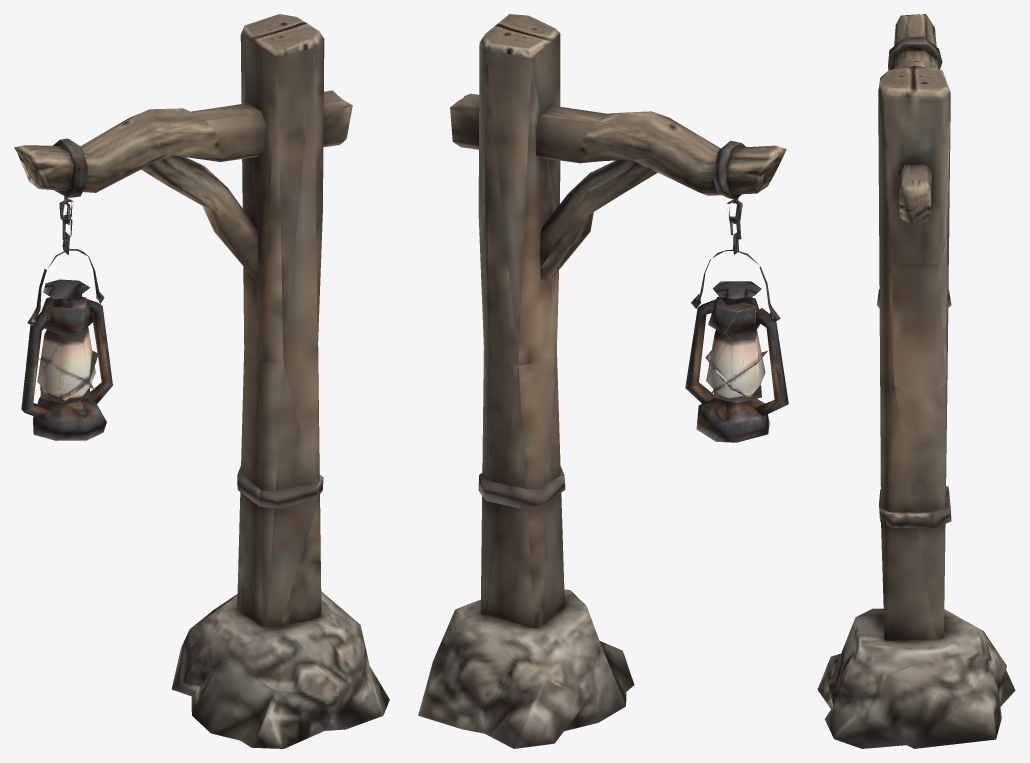
The model's file is prop_lantern_post.glb.
3 renders of one model, left to right at view 1: azimuth 30°, elevation 25°; view 2: azimuth 150°, elevation 25°; view 3: azimuth 270°, elevation 25°, orthographic. The views are drawn at different scales.
Size of the model in its own units: 1.24 by 2.3 by 0.6499.
Materials: 1 (1 with a texture image).
